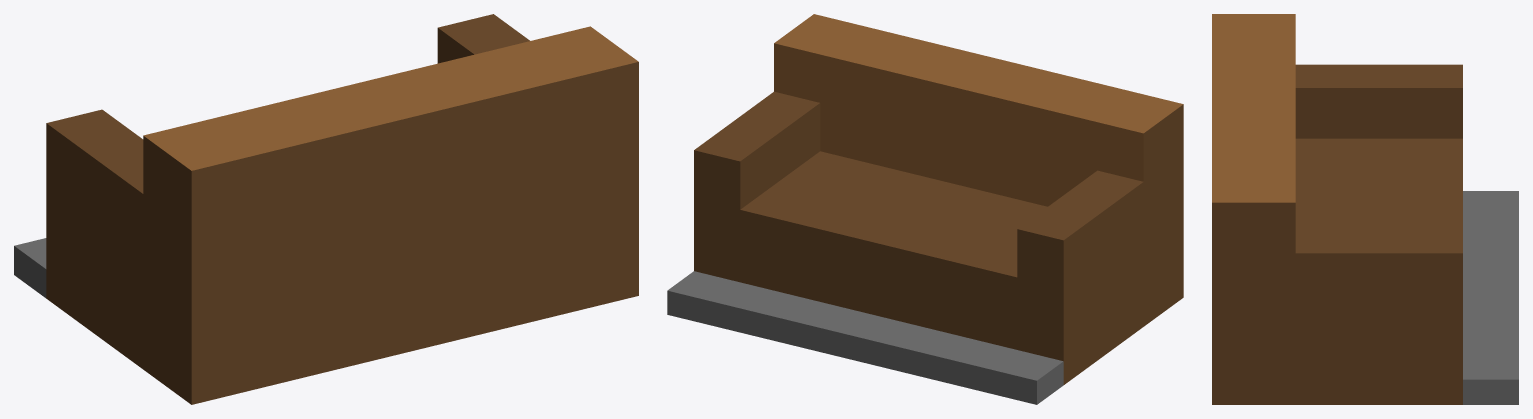
File: couch.gltf
The picture shows the model from 3 angles, left to right: view 1: azimuth 30°, elevation 25°; view 2: azimuth 150°, elevation 25°; view 3: azimuth 270°, elevation 25°; orthographic projection. The views are drawn at different scales.
Visible parts, largest first — view 1: cube (×5); view 2: cube (×5); view 3: cube (×5).
Boxes of the visible parts, <box> form: cube (×5): <box>14,14,638,404</box>; cube (×5): <box>667,14,1183,404</box>; cube (×5): <box>1212,14,1518,404</box>.
Size of the model in its own units: 1 by 0.5 by 0.6875.
Materials: 1 (1 with a texture image).
